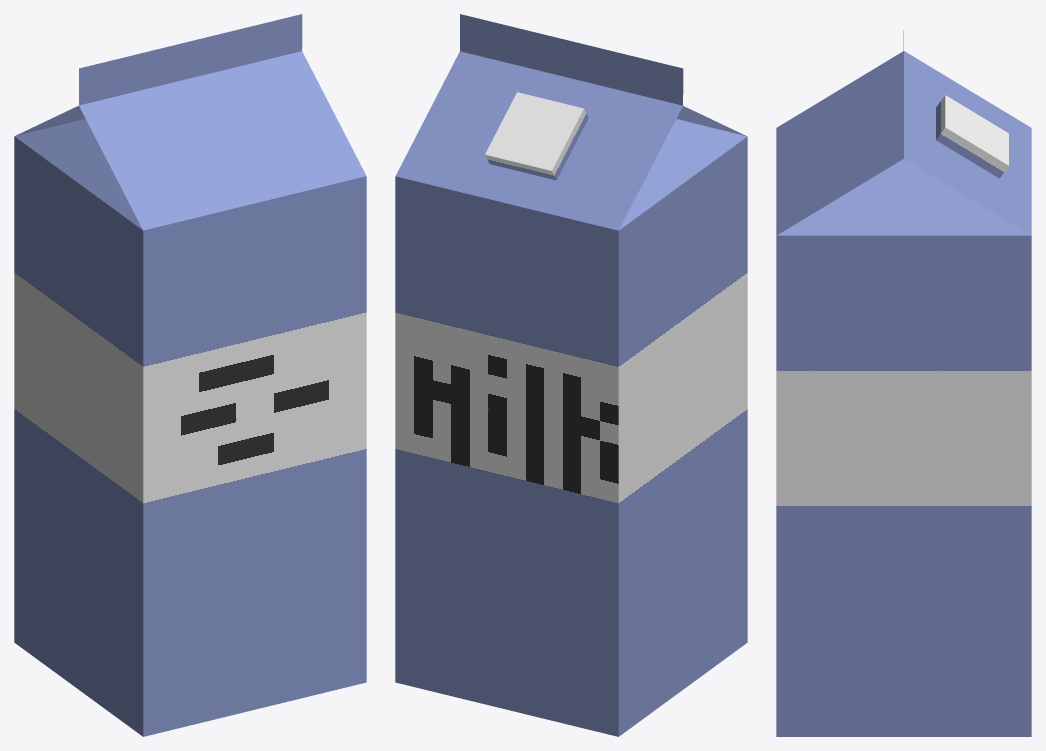
File: Hilk.fbx
3 views of the same model, side by side, from view 1: azimuth 30°, elevation 25°; view 2: azimuth 150°, elevation 25°; view 3: azimuth 270°, elevation 25° (orthographic).
Visible parts, largest first — view 1: cube; view 2: cube; view 3: cube.
Part boxes in pixels (x1=…): cube: x1=14, y1=14, x2=366, y2=736; cube: x1=395, y1=14, x2=747, y2=736; cube: x1=776, y1=30, x2=1031, y2=736.
Bounding box in the file's own units: 37.5 × 99.72 × 37.5.
1 material, 1 textured.
